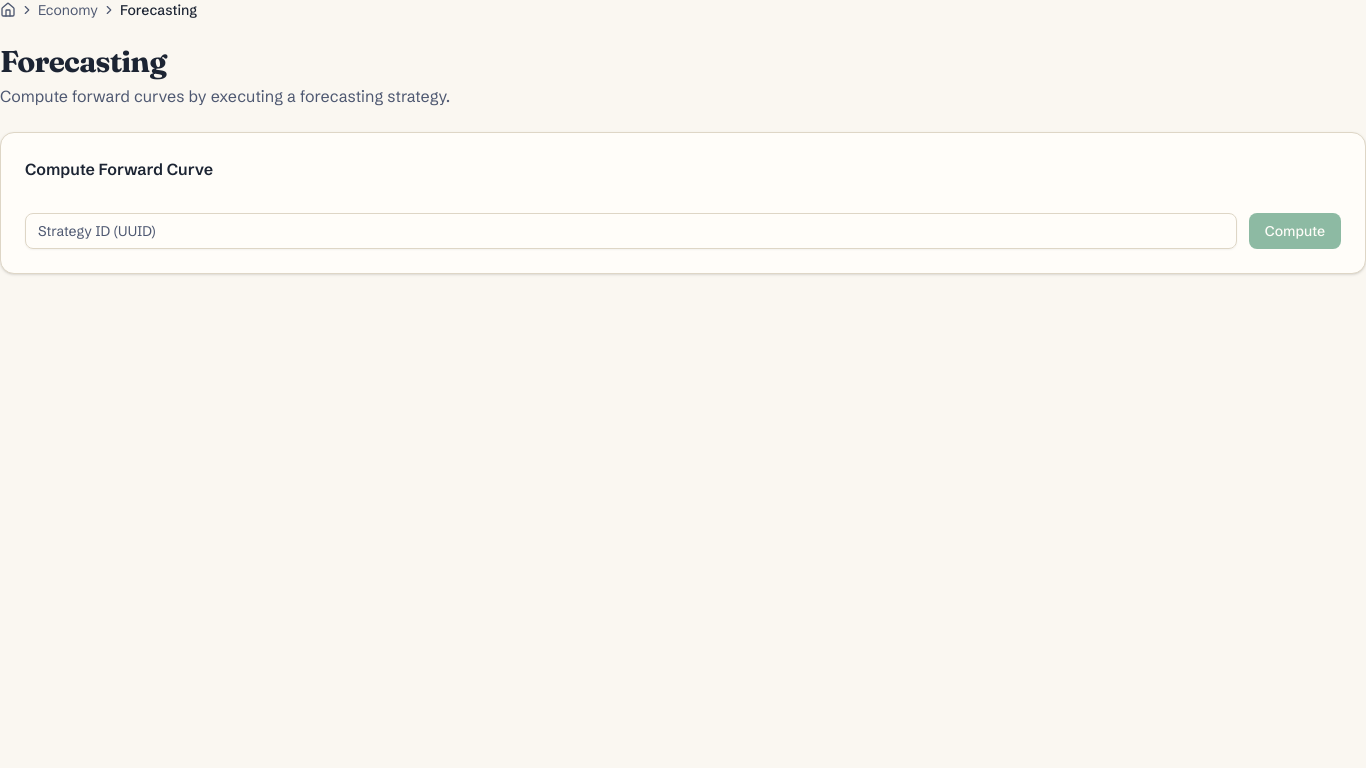
Test: ForecastingPage › submits form and displays result chart
Type "550e8400-e29b-41d4-a716-446655440000" into the field labelled "Strategy ID (UUID)".
click(631, 231); type("550e8400-e29b-41d4-a716-446655440000")  # box [25,213,1237,249]
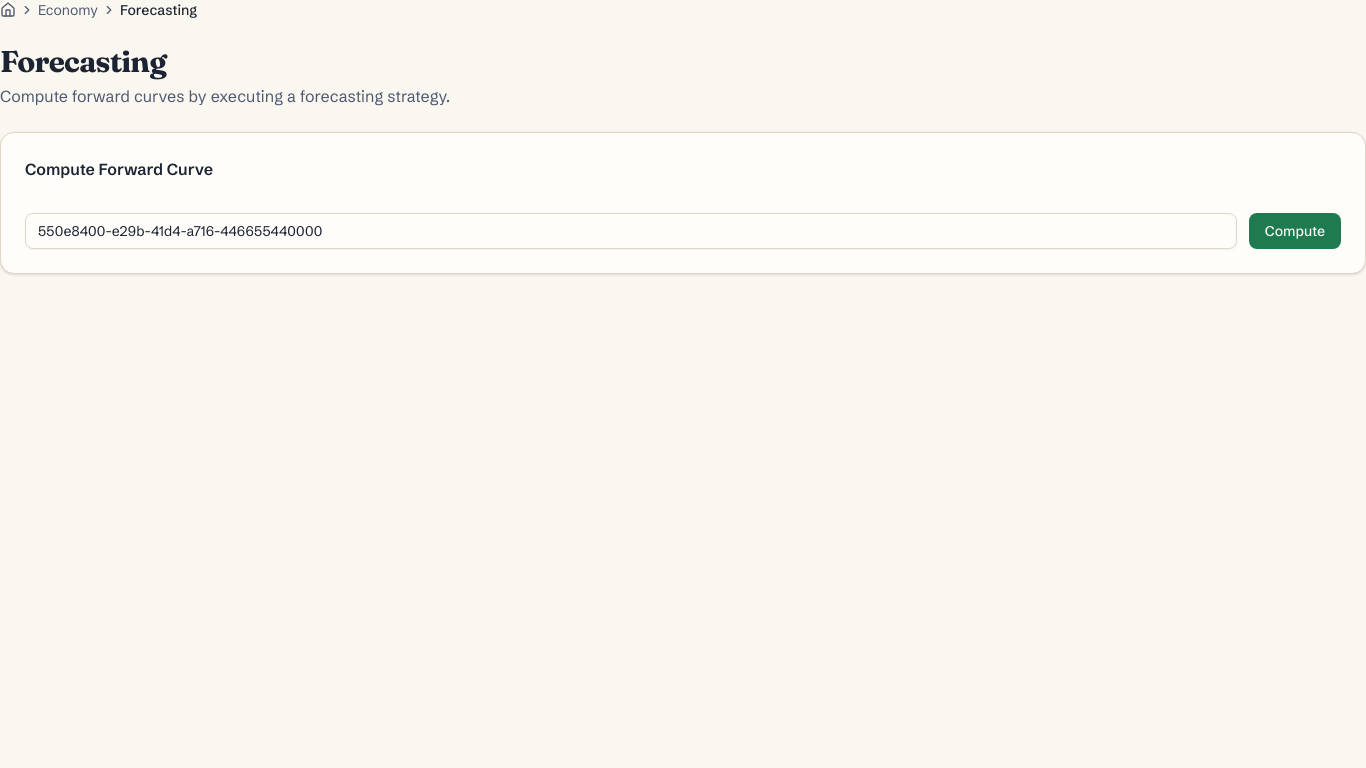
Submit the form named "forward curve form", box [25,213,1341,249]
(page scrolled)
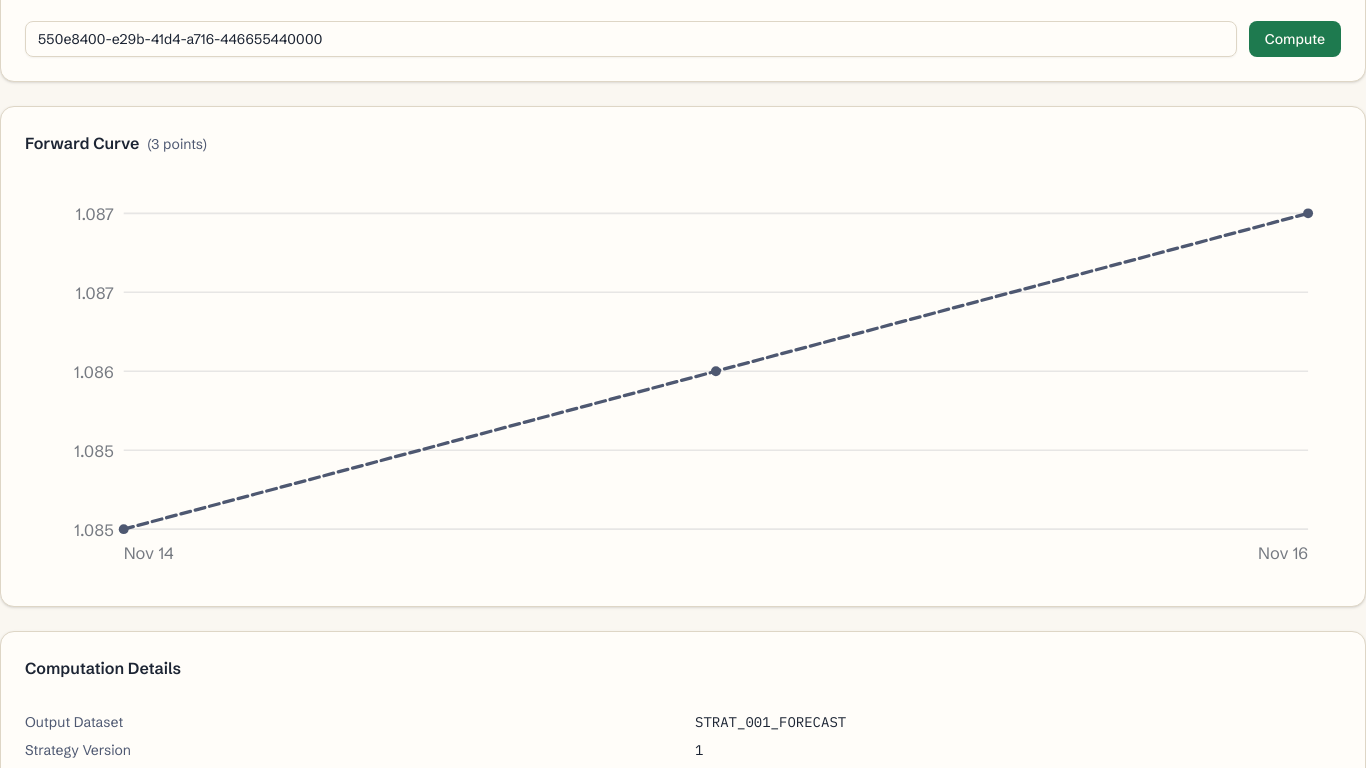
Result: the element with test id "curve-chart" is shown at [25,187,1341,582]
